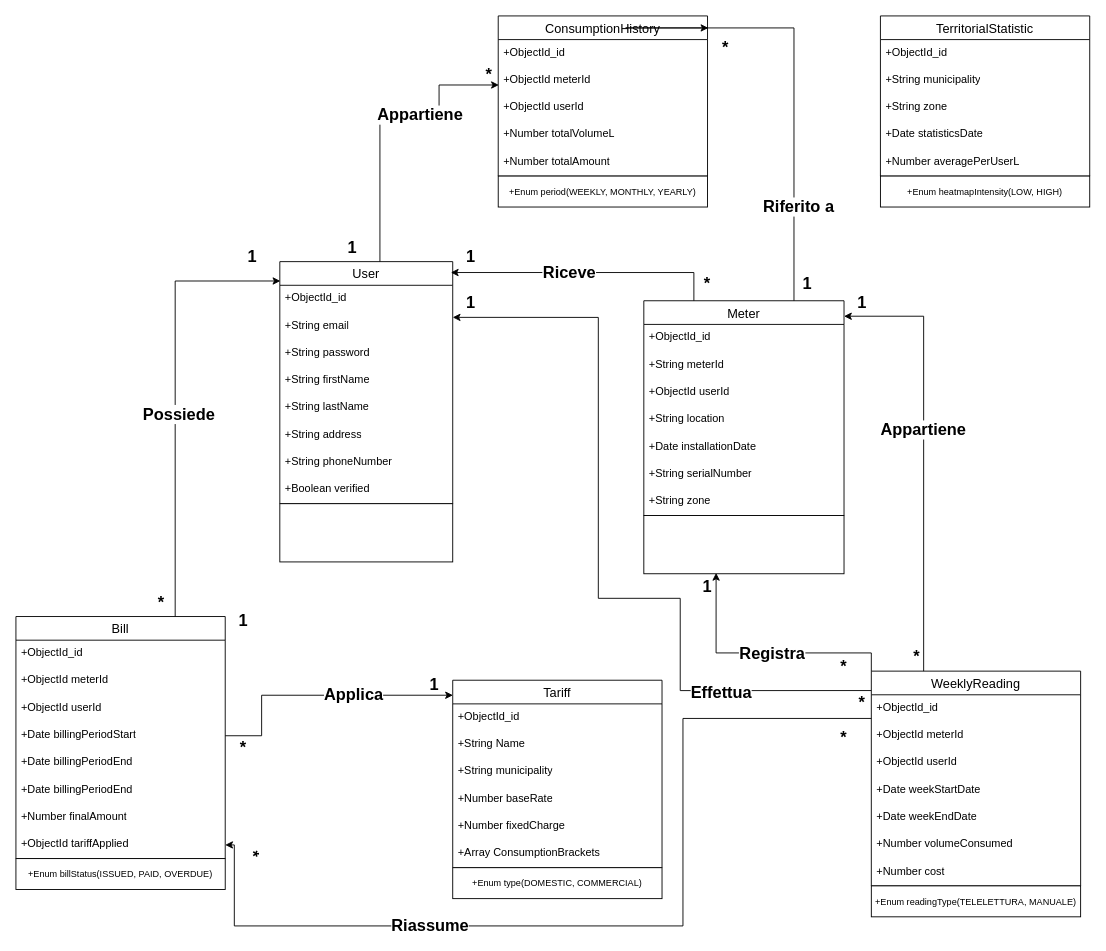
The diagram is 1106 pixels wide and 951 high, and some of its shapes have lost their labels. The shapes that lost their labels are listed below. From the top down, each one's centre as x and y in pixels, then its label:
At point 366,532: "+Enum userType(PRIVATE, ADMIN) +Enum status (ACTIVE, SUSPENDED)".
At point 743,544: "+Enum meterType(DOMESTIC, COMMERICIAL) +Enum status (ACTIVE, MAINTENANCE)".
